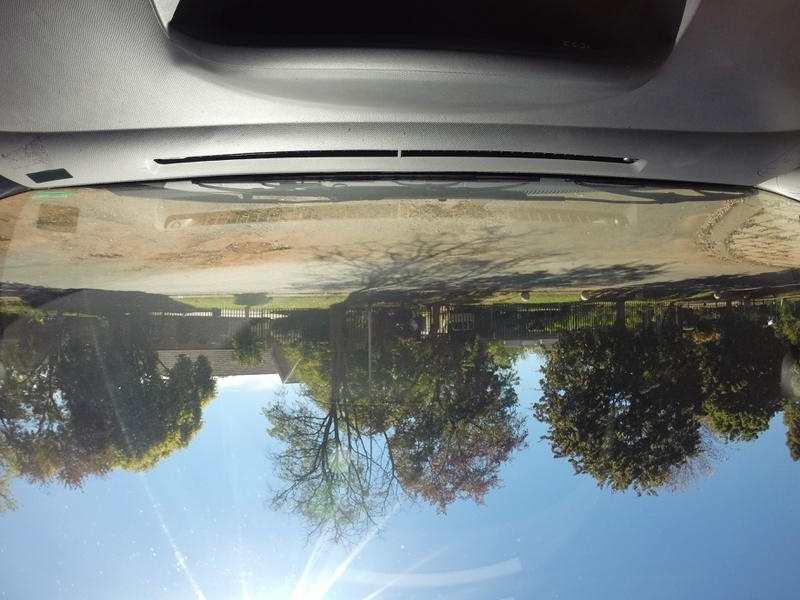pothole: (211, 227, 288, 259), (85, 250, 123, 264)
